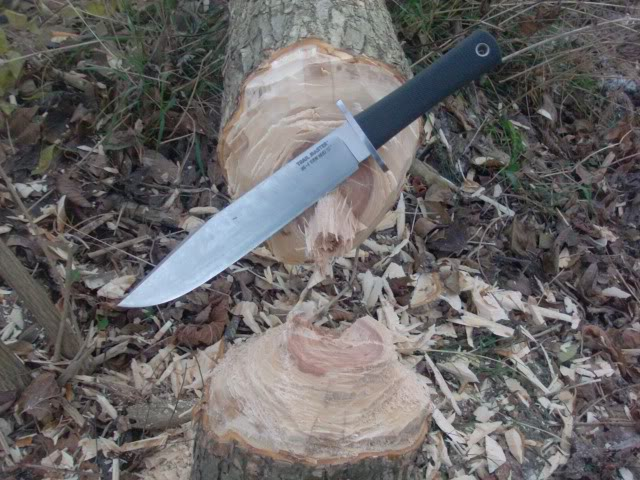knife: (113, 113, 377, 312)
